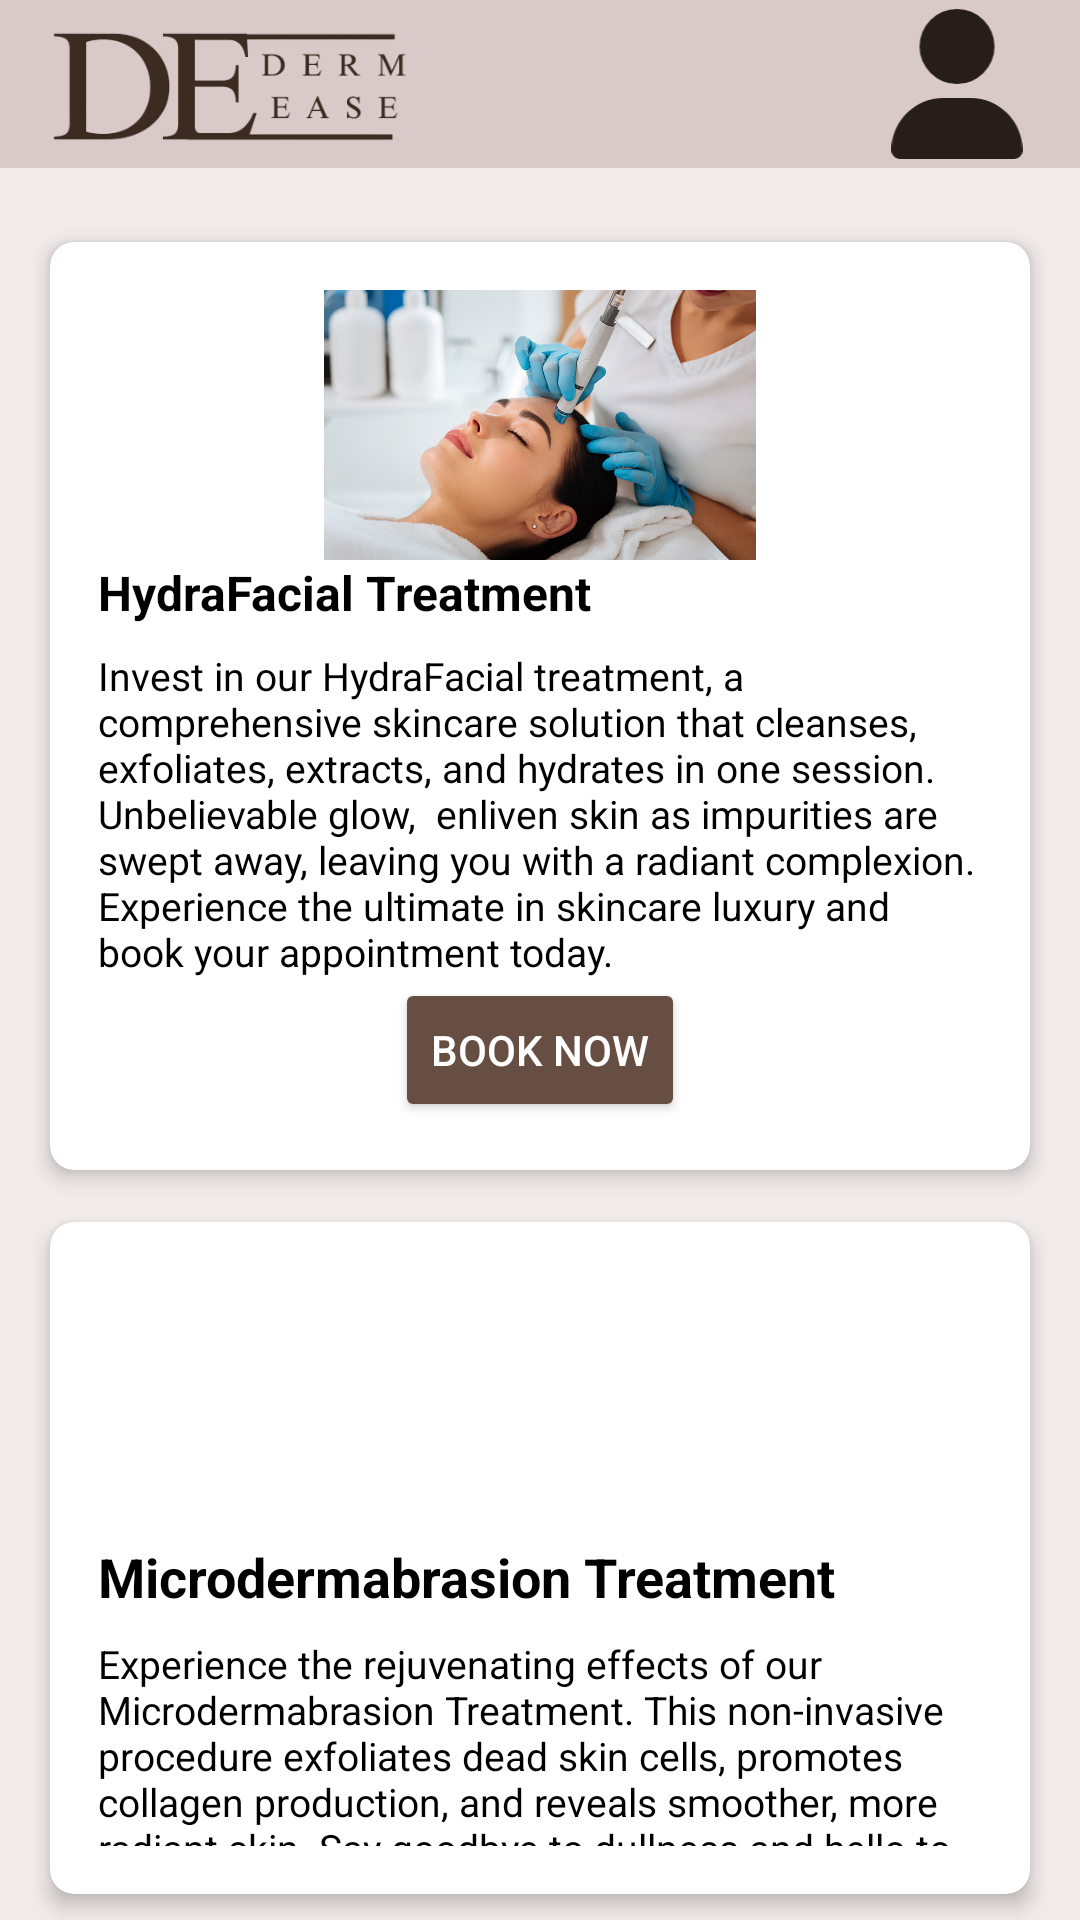

Point at icon controls on the screen. Image size 1080 × 1920, points as (x=x, y=y).
user: (x=957, y=84)
